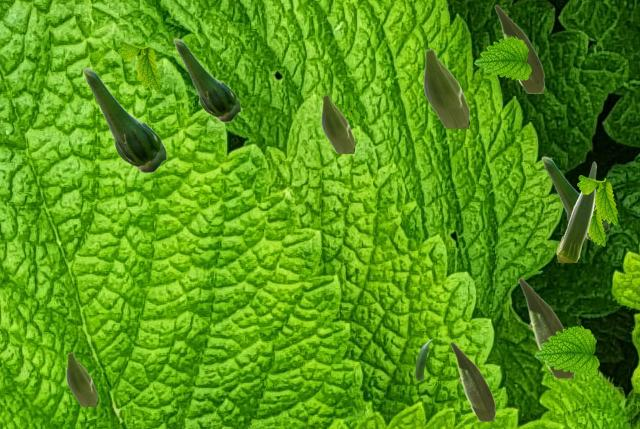okra: (82, 67, 166, 172), (518, 277, 574, 377), (173, 38, 240, 121), (541, 156, 608, 239), (494, 4, 543, 92), (556, 161, 595, 261), (423, 48, 468, 127), (450, 341, 494, 420), (321, 94, 353, 152), (66, 352, 96, 405), (415, 339, 431, 379)
